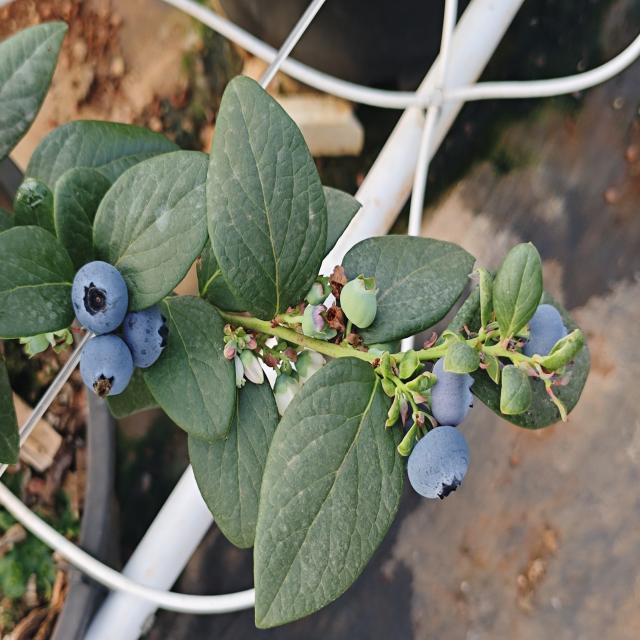ripe: (404, 423, 472, 503), (69, 259, 130, 337), (423, 354, 476, 428), (522, 298, 574, 371), (82, 334, 138, 394), (132, 295, 167, 363)
